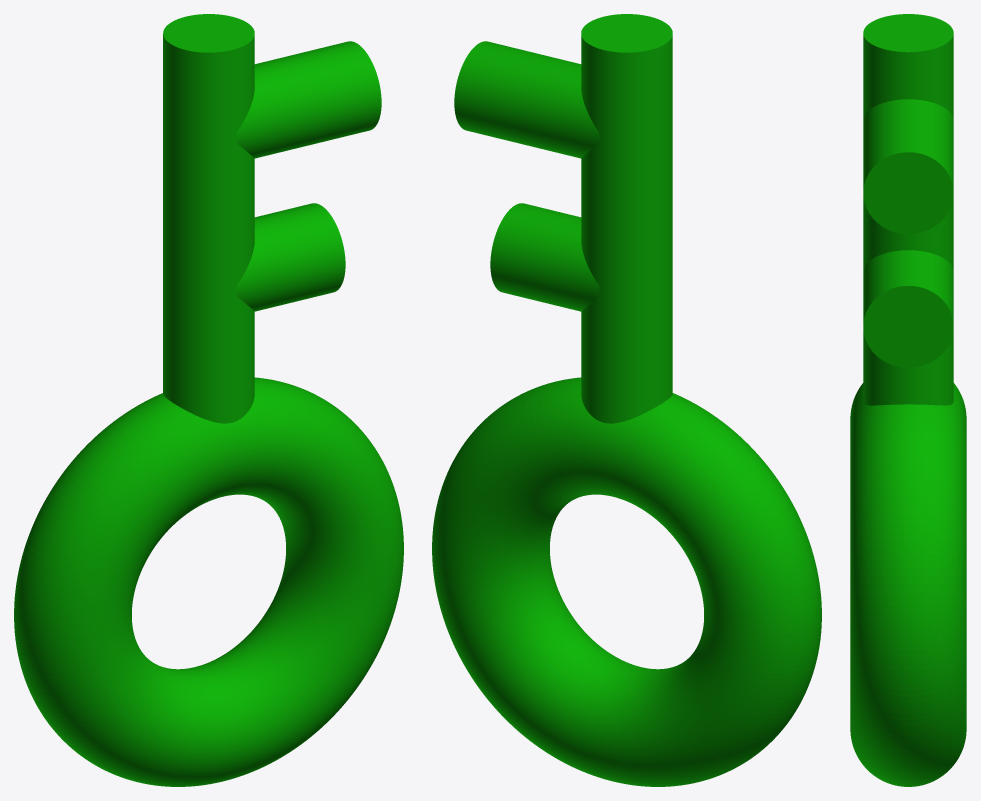
Rendered from GreenKey.fbx.
3 views of the same model, side by side, from view 1: azimuth 30°, elevation 25°; view 2: azimuth 150°, elevation 25°; view 3: azimuth 270°, elevation 25° (orthographic).
Visible parts, largest first — view 1: Torus, Cylinder, Cylinder.001, Cylinder.002; view 2: Torus, Cylinder, Cylinder.001, Cylinder.002; view 3: Torus, Cylinder, Cylinder.001, Cylinder.002.
Boxes of the visible parts, <box> form: Torus: <box>14,377,403,786</box>; Cylinder: <box>163,14,254,423</box>; Cylinder.001: <box>236,41,381,158</box>; Cylinder.002: <box>236,203,345,311</box>; Torus: <box>432,377,821,786</box>; Cylinder: <box>581,14,672,423</box>; Cylinder.001: <box>454,41,599,158</box>; Cylinder.002: <box>490,203,599,311</box>; Torus: <box>850,383,966,786</box>; Cylinder: <box>863,14,953,405</box>; Cylinder.001: <box>863,99,953,233</box>; Cylinder.002: <box>863,250,953,367</box>.
Size of the model in its own units: 132 by 251 by 36.
